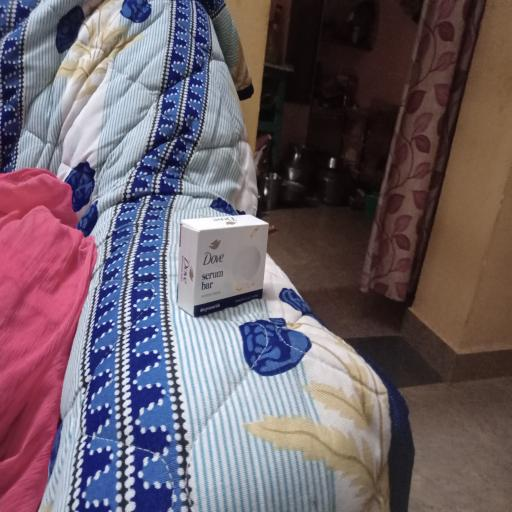Dove`1: (174, 209, 272, 320)
